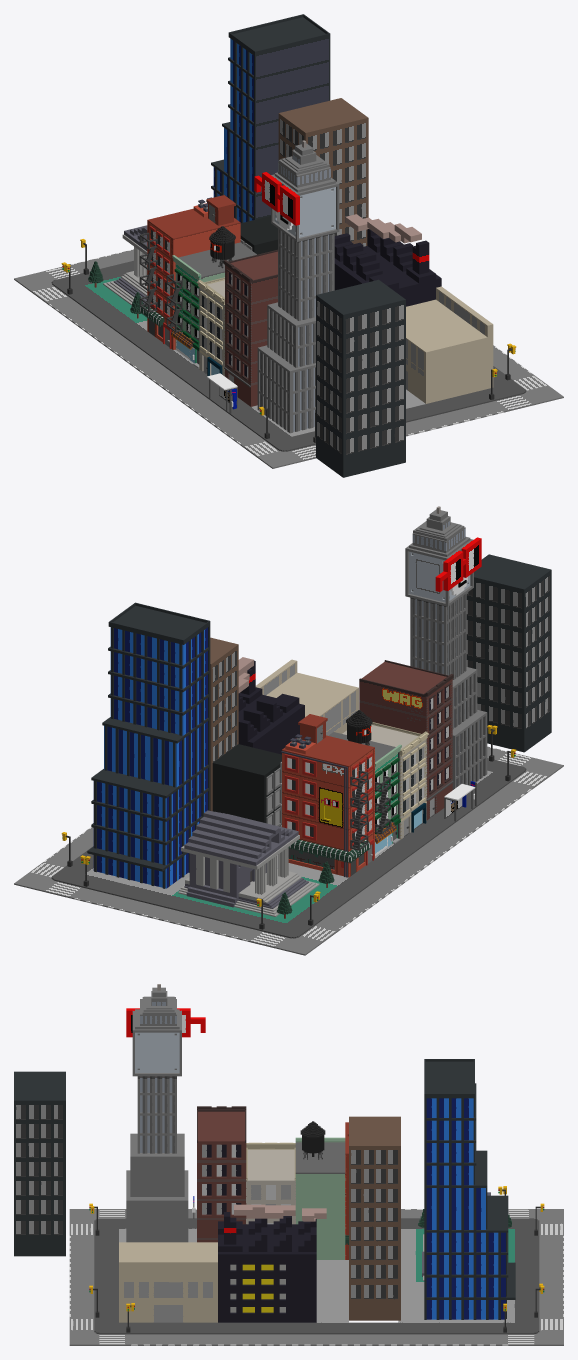
File: Block_TNS.glb
The picture shows the model from 3 angles, top to bottom: view 1: azimuth 30°, elevation 25°; view 2: azimuth 150°, elevation 25°; view 3: azimuth 270°, elevation 25°; orthographic projection. The views are drawn at different scales.
Visible parts, largest first — view 1: Block_TNS; view 2: Block_TNS; view 3: Block_TNS.
Part boxes in pixels (x1,y1,x2,y2): Block_TNS: (14, 14, 563, 477); Block_TNS: (14, 506, 563, 955); Block_TNS: (14, 984, 563, 1345).
Size of the model in its own units: 2.6 by 2.34 by 4.45.
Materials: 1 (1 with a texture image).
